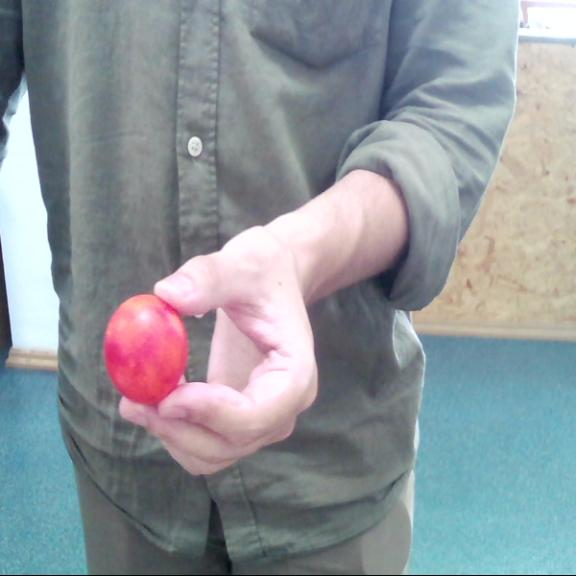ball: (106, 293, 187, 405)
